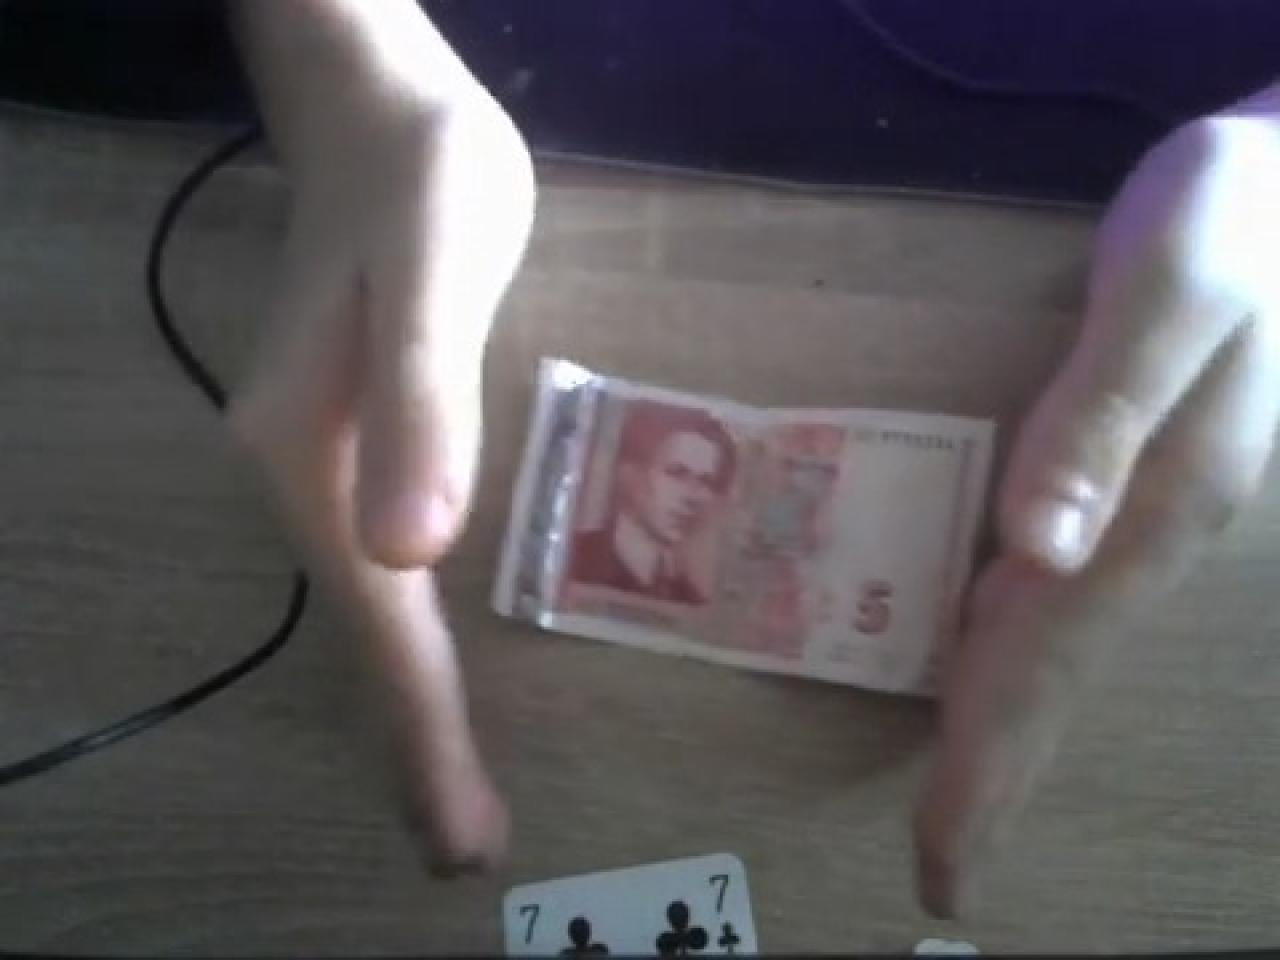5leva: (486, 357, 998, 701)
